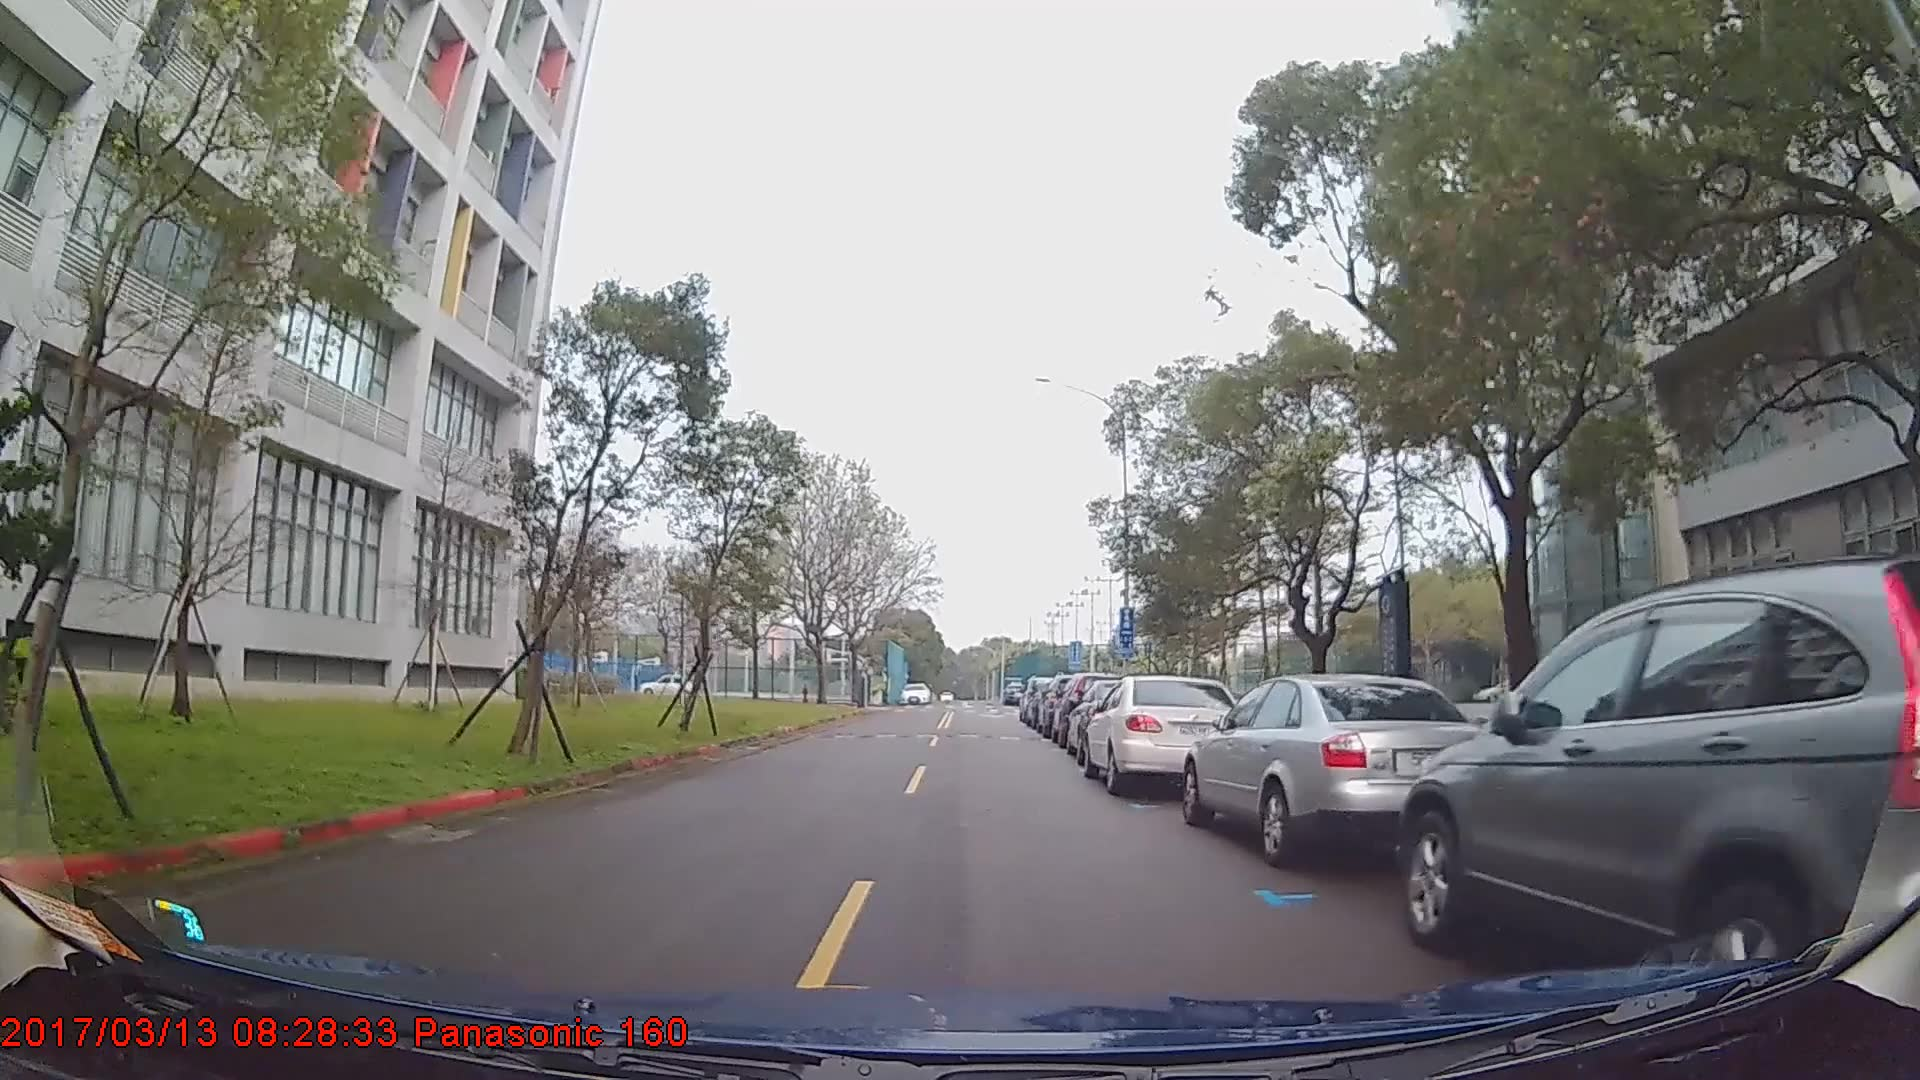vehicle: (1398, 550, 1917, 1000), (1179, 674, 1501, 868), (1080, 674, 1253, 796), (638, 673, 698, 699), (898, 682, 930, 704)
